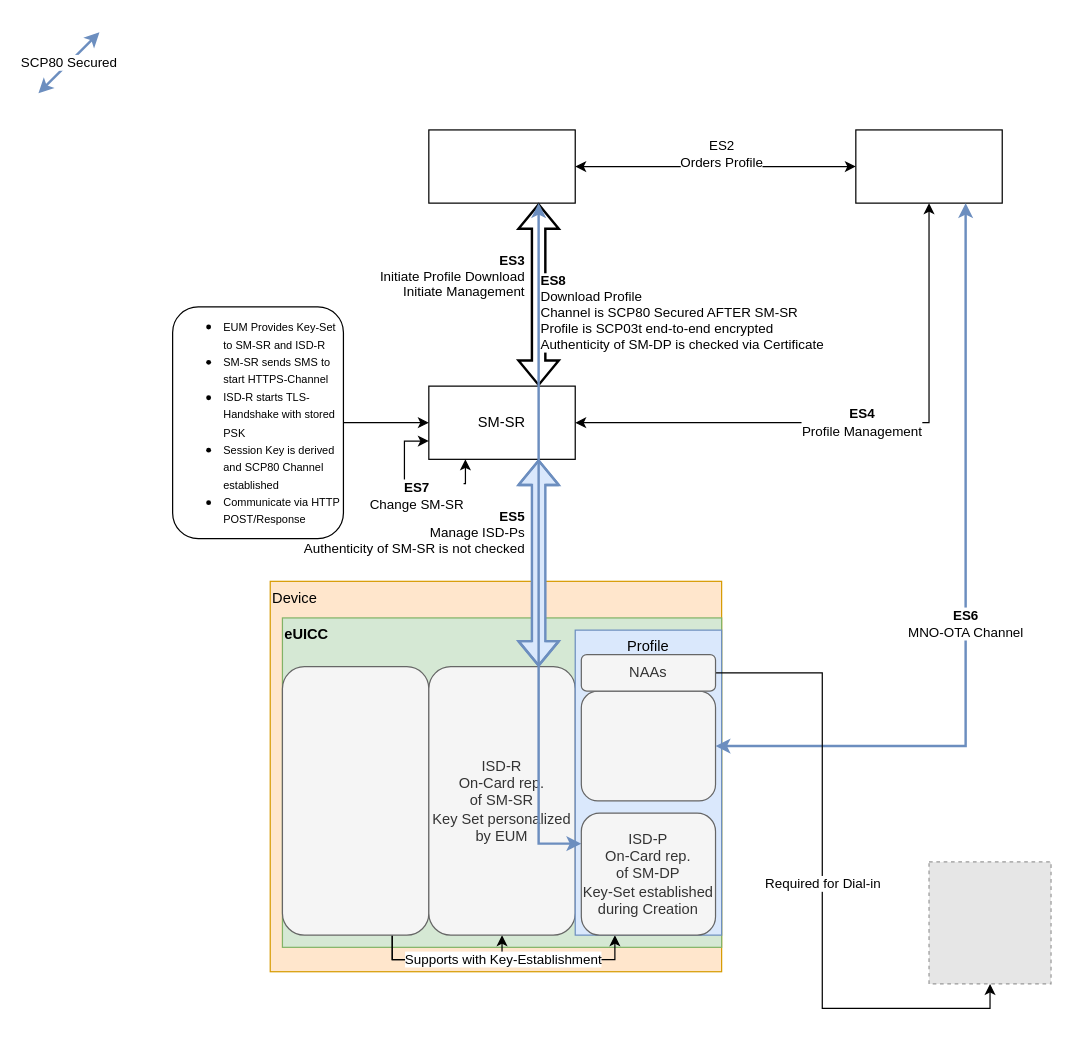
The diagram is 1074 pixels wide and 1039 high, and some of its shapes have lost their labels. Grey dashed boxes stand in for pictures. The shapes that lost their labels are listed below. From the top down, each one's centre as x and y in pixels, then its label:
At point (501, 166): "SM-DP".
At point (928, 166): "Operator".
At point (648, 745): "MNO-SD On-Card rep. of MNO Keys are Part of Profile & Downloaded".
At point (355, 800): "ECASD contains Certificates and eUICC PrivKey".
